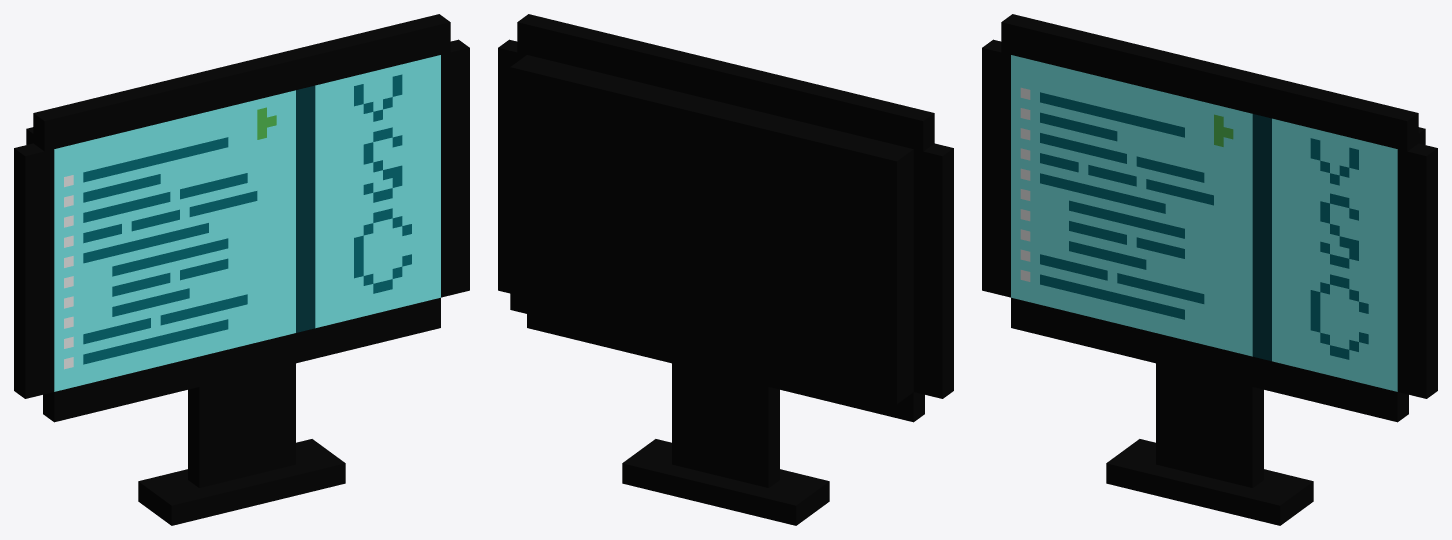
Rendered from monitor.glb.
The picture shows the model from 3 angles, left to right: view 1: azimuth 30°, elevation 25°; view 2: azimuth 150°, elevation 25°; view 3: azimuth 330°, elevation 25°; orthographic projection.
Visible parts, largest first — view 1: Node1; view 2: Node1; view 3: Node1.
Part boxes in pixels (x1,y1,x2,y2): Node1: (14,14,469,525); Node1: (498,14,953,525); Node1: (982,14,1437,525).
Size of the model in its own units: 4.6 by 4.2 by 0.7.
1 material, 1 textured.
